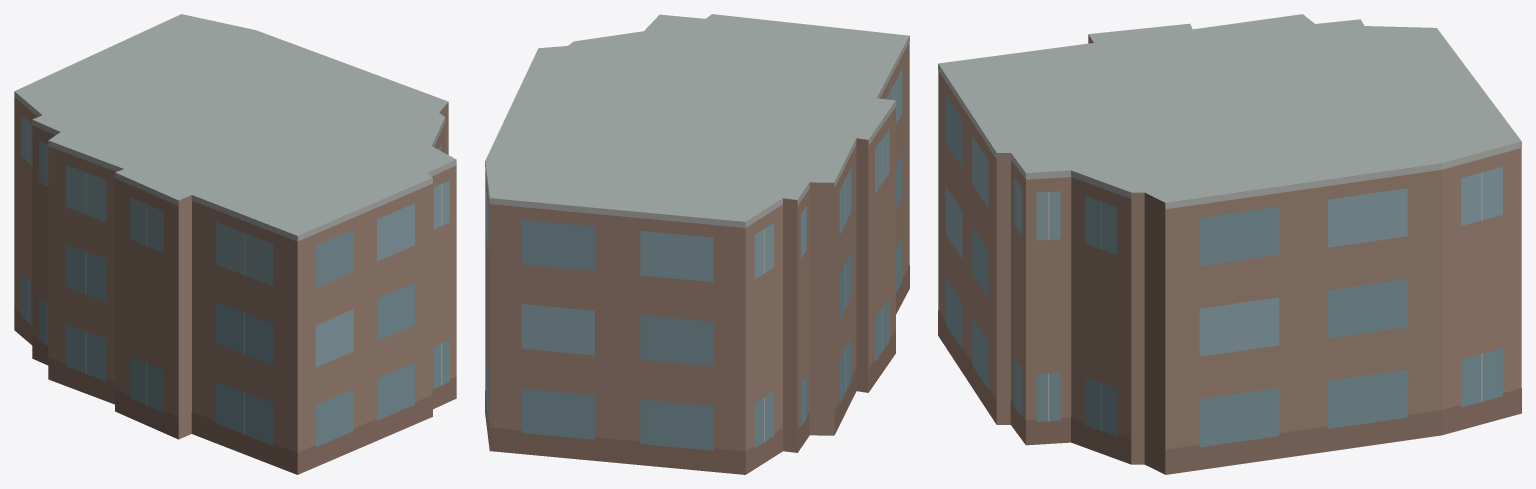
File: survey-upis-32674898.glb
The picture shows the model from 3 angles, left to right: view 1: azimuth 30°, elevation 25°; view 2: azimuth 150°, elevation 25°; view 3: azimuth 270°, elevation 25°; orthographic projection. The views are drawn at different scales.
Parts seen in each view (by area): view 1: survey-upis-32674898.tmp; view 2: survey-upis-32674898.tmp; view 3: survey-upis-32674898.tmp.
Boxes of the visible parts, x1=… form: survey-upis-32674898.tmp: x1=14, y1=14, x2=456, y2=474; survey-upis-32674898.tmp: x1=485, y1=14, x2=909, y2=474; survey-upis-32674898.tmp: x1=938, y1=14, x2=1521, y2=474.
Bounding box in the file's own units: 15.2 × 10.2 × 19.85.
